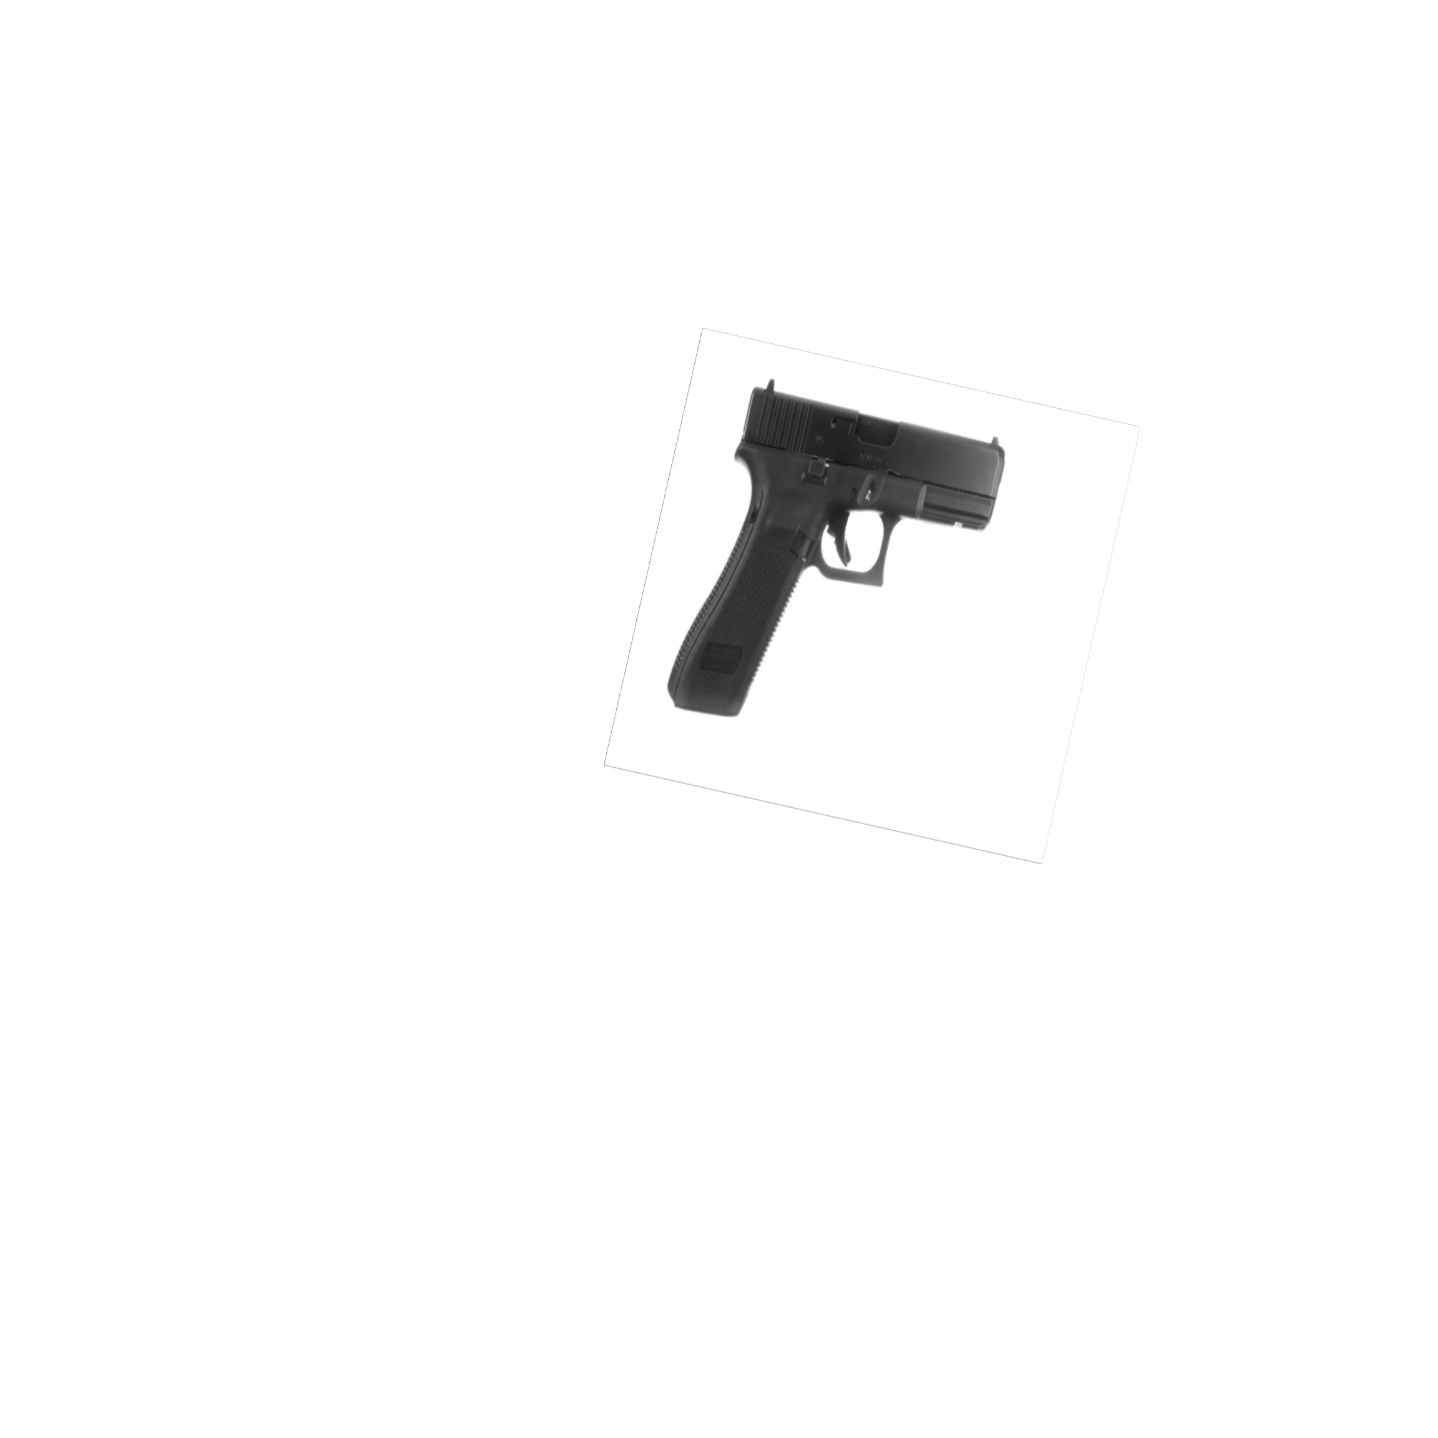gun: (662, 375, 1007, 730)
